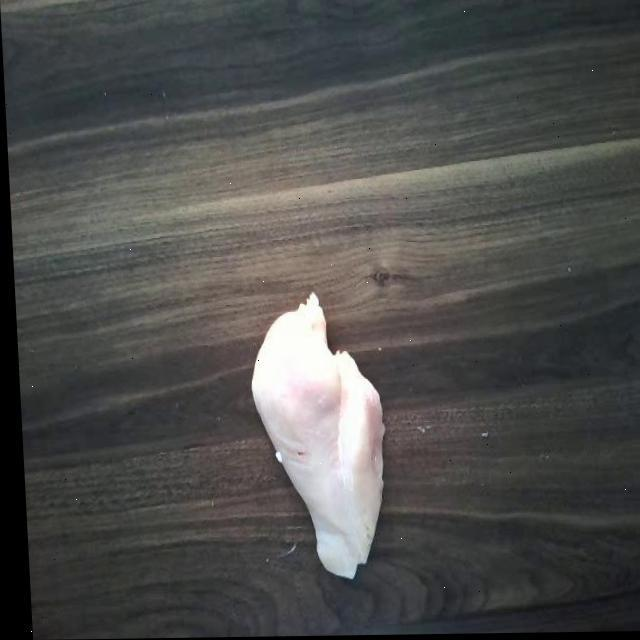breast: (248, 292, 395, 586)
